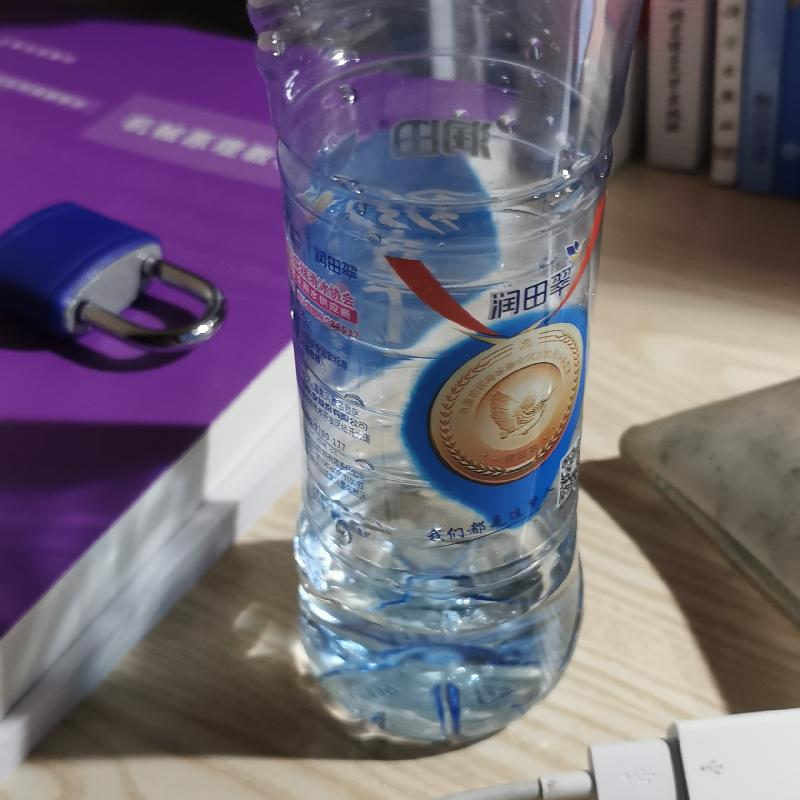bottles: (240, 1, 608, 743)
